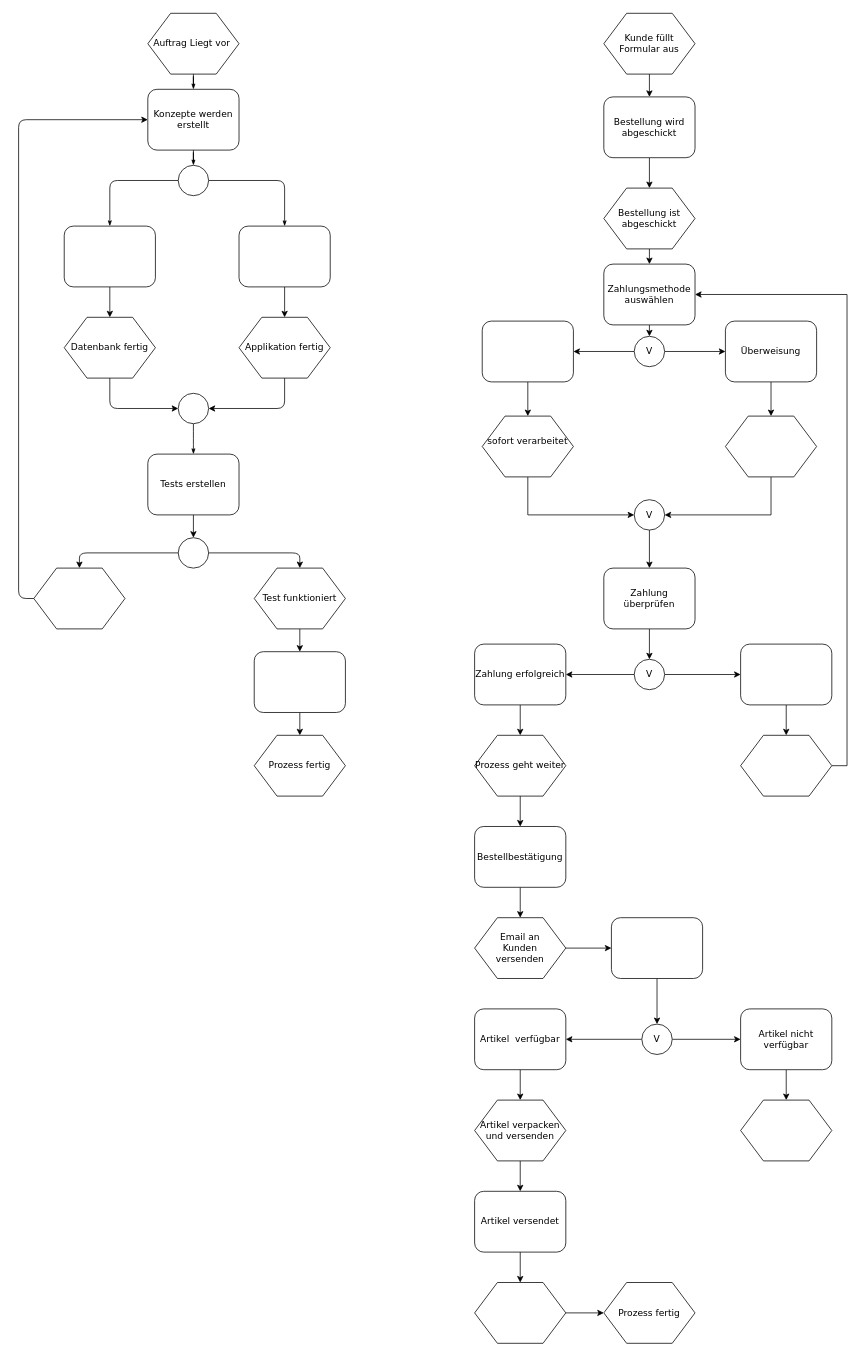
Image size: 866x1357. Some labels were removed from this diagram. The shapes that lost their labels are listed below. From the top down, each one's centre as x and y in pixels, then its label:
At (x=193, y=180): "AND".
At (x=109, y=256): "Datenbank erstellen".
At (x=284, y=256): "Applikation erstellen".
At (x=527, y=351): "Kreditkarte, Paypal".
At (x=193, y=408): "OR".
At (x=771, y=446): "Erst nach Zahlungseingang".
At (x=193, y=552): "XOR".
At (x=79, y=598): "Test fehlgeschlagen".
At (x=299, y=681): "System initialisieren".
At (x=786, y=674): "Zahlung nicht erfolgreich".
At (x=786, y=765): "Kunde benachrichtigen, neue Zahlung notwendig".
At (x=657, y=947): "Lager prüfen".
At (x=786, y=1130): "Kunde informieren Bestellprozess storniert".
At (x=520, y=1312): "Bestätigung an Kunden versenden".
